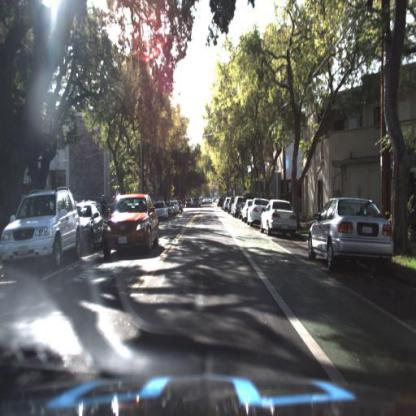car: (305, 192, 399, 280), (309, 195, 396, 283), (2, 186, 82, 280), (101, 191, 161, 259), (103, 191, 159, 253), (258, 195, 300, 240), (258, 201, 296, 238), (248, 197, 271, 228), (250, 194, 264, 230), (154, 198, 170, 222), (232, 195, 242, 218), (244, 200, 250, 221)
